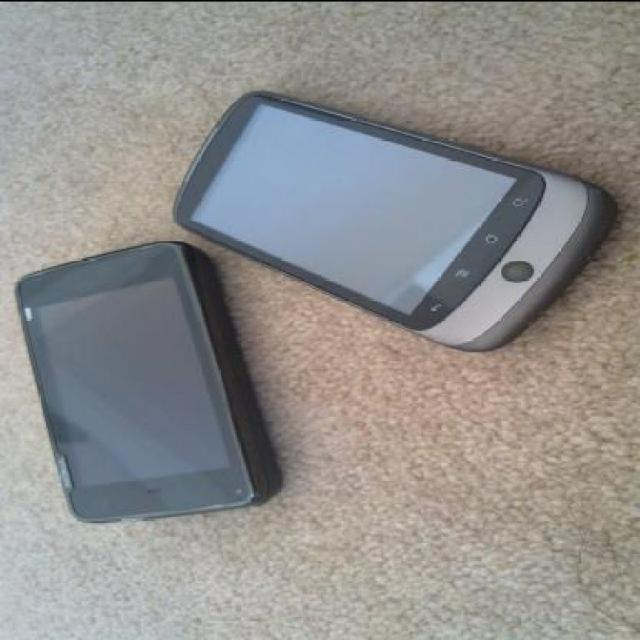phone: (181, 76, 593, 350), (15, 241, 283, 524)
